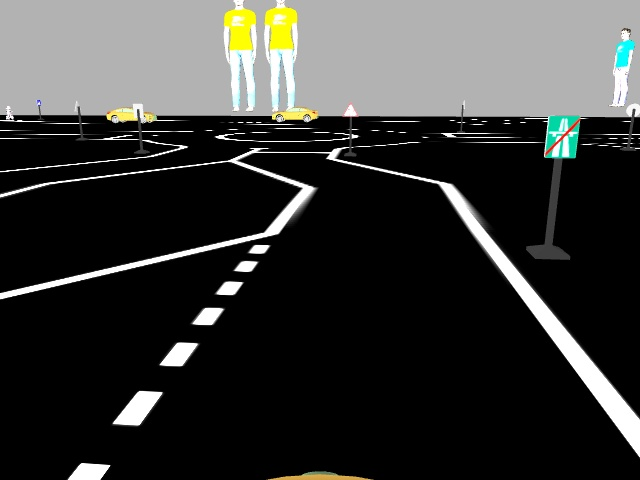HighwayExit: (543, 114, 581, 159)
